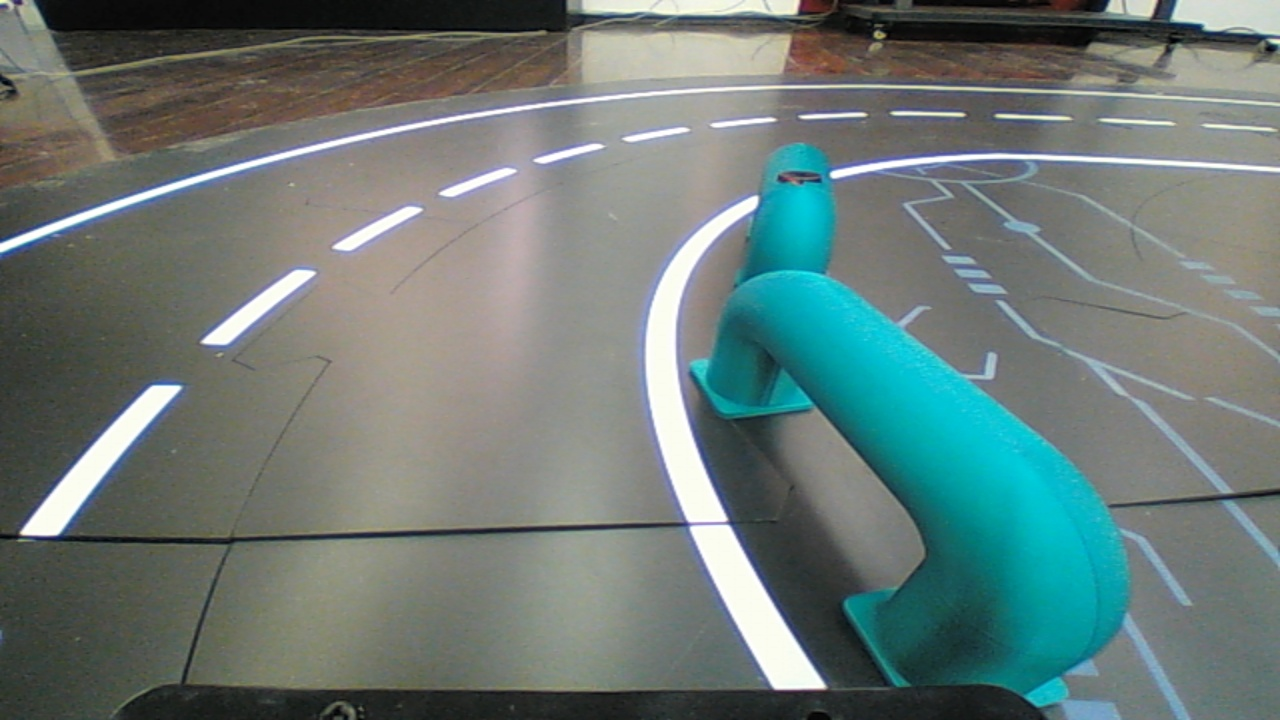No entry: (688, 253, 1144, 702)
Pedestrian crossing: (739, 135, 852, 307)
